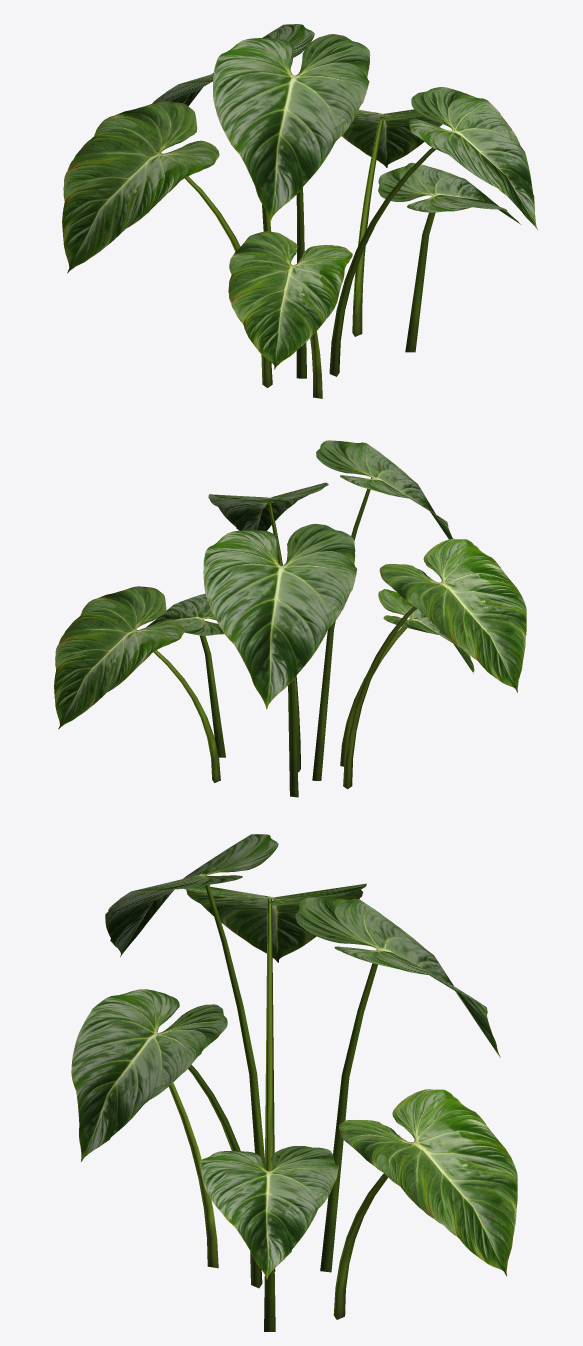
The model's file is alocasia3.FBX.
3 views of the same model, one above another, from view 1: azimuth 30°, elevation 25°; view 2: azimuth 150°, elevation 25°; view 3: azimuth 270°, elevation 25° (orthographic). The views are drawn at different scales.
Visible parts, largest first — view 1: alocasia3; view 2: alocasia3; view 3: alocasia3.
Boxes of the visible parts, x1,y1,x2,y2 form: alocasia3: [62, 24, 537, 398]; alocasia3: [54, 440, 526, 797]; alocasia3: [71, 834, 517, 1331].
Bounding box in the file's own units: 29.07 × 19.9 × 24.51.
